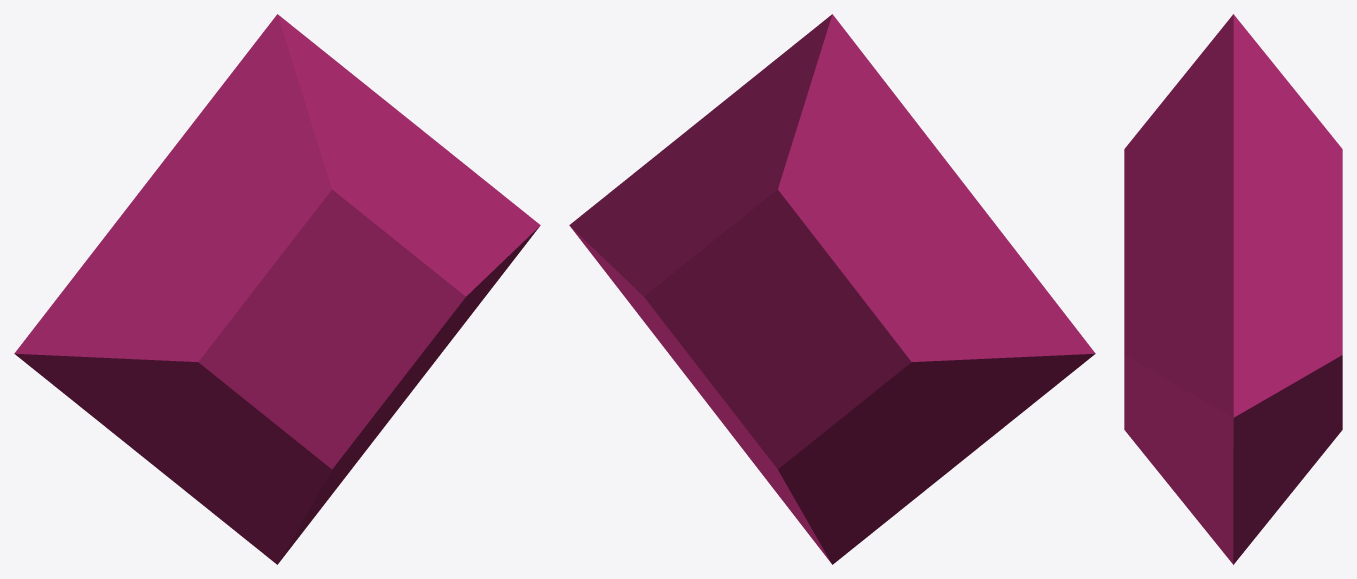
The model's file is square-cut-gem.fbx.
3 views of the same model, side by side, from view 1: azimuth 30°, elevation 25°; view 2: azimuth 150°, elevation 25°; view 3: azimuth 270°, elevation 25° (orthographic).
Visible parts, largest first — view 1: Square Cut; view 2: Square Cut; view 3: Square Cut.
Part boxes in pixels (x1,y1,x2,y2): Square Cut: (14, 14, 540, 564); Square Cut: (569, 14, 1095, 564); Square Cut: (1124, 14, 1342, 564).
Bounding box in the file's own units: 4.49 × 4.49 × 1.62.
